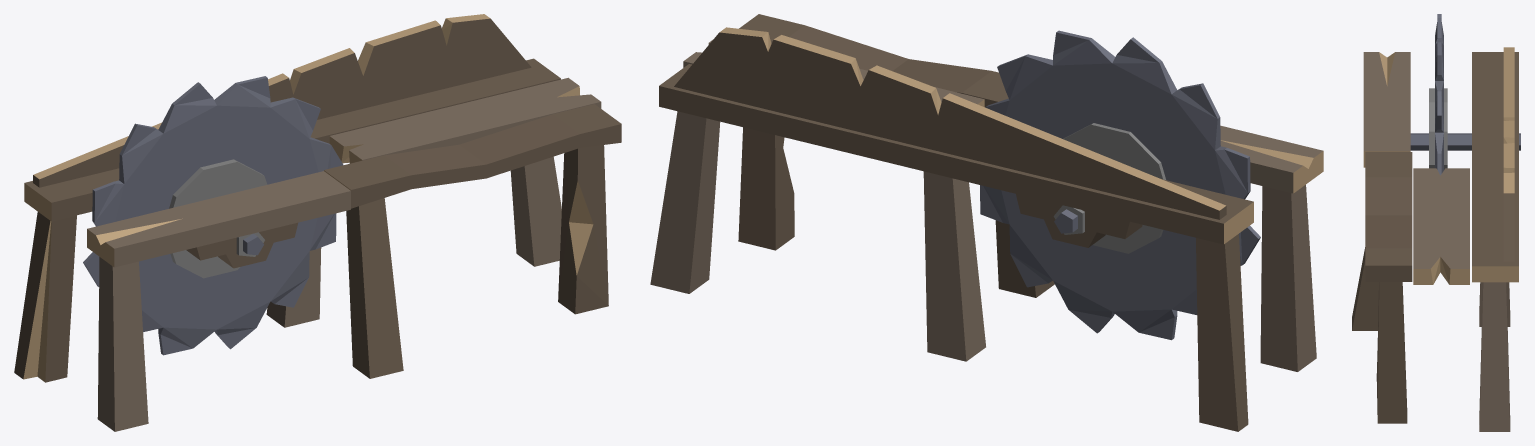
The model's file is _samwill.fbx.
3 views of the same model, side by side, from view 1: azimuth 30°, elevation 25°; view 2: azimuth 150°, elevation 25°; view 3: azimuth 270°, elevation 25° (orthographic). The views are drawn at different scales.
Visible parts, largest first — view 1: samwill; view 2: samwill; view 3: samwill.
Part boxes in pixels (left/top/right/bottom): samwill: left=14, top=14, right=621, bottom=431; samwill: left=650, top=14, right=1323, bottom=431; samwill: left=1352, top=14, right=1520, bottom=431.
Bounding box in the file's own units: 321 × 166 × 102.
